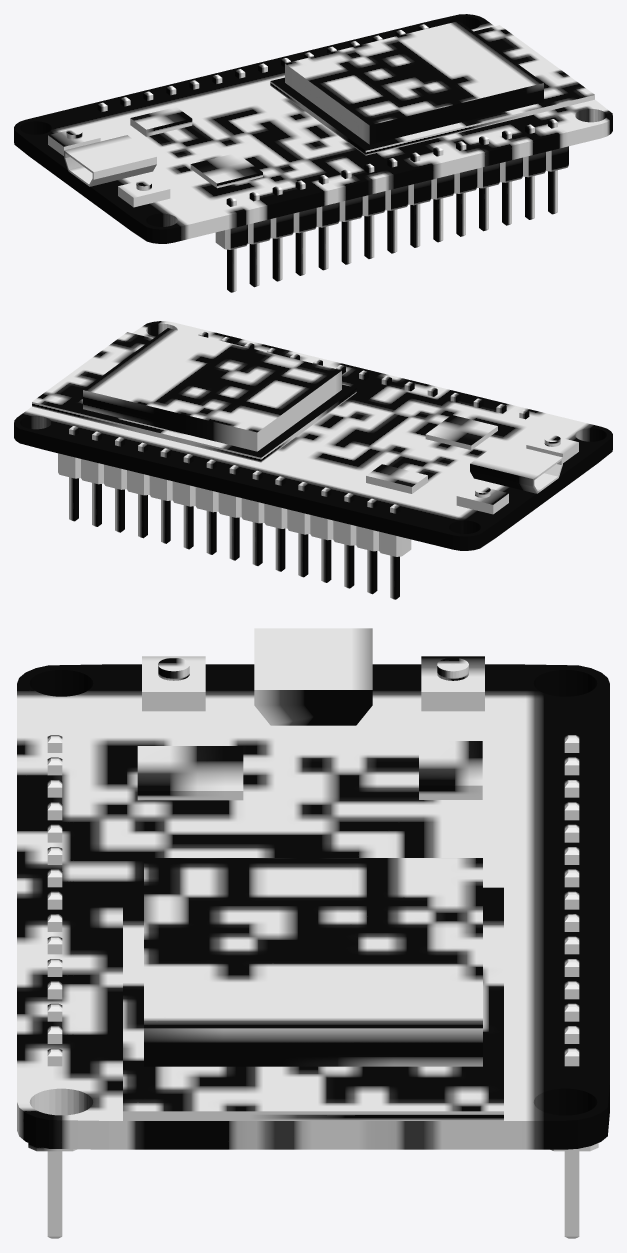
Rendered from ESP32.fbx.
3 views of the same model, one above another, from view 1: azimuth 30°, elevation 25°; view 2: azimuth 150°, elevation 25°; view 3: azimuth 270°, elevation 25° (orthographic). The views are drawn at different scales.
Visible parts, largest first — view 1: Base, Button.001, Pins.001, Antenna, espmicrousb, smdchip, Cube, Pins.002, ButtonBase.001, ButtonBase.002; view 2: Base, Button.001, Pins.002, Antenna, espmicrousb, smdchip, Cube, Pins.001, ButtonBase.002, ButtonBase.001; view 3: Base, Button.001, Antenna, espmicrousb, Pins.001, Pins.002, smdchip, Cube, ButtonBase.001, ButtonBase.002.
Part boxes in pixels (x1,y1,x2,y2): Base: [14, 14, 612, 243]; Button.001: [285, 21, 543, 144]; Pins.001: [215, 119, 568, 292]; Antenna: [270, 25, 594, 155]; espmicrousb: [64, 135, 156, 186]; smdchip: [190, 153, 262, 188]; Cube: [130, 107, 192, 136]; Pins.002: [97, 24, 428, 112]; ButtonBase.001: [118, 177, 170, 207]; ButtonBase.002: [48, 126, 100, 155]; Base: [14, 321, 612, 550]; Button.001: [83, 328, 341, 451]; Pins.002: [58, 426, 411, 599]; Antenna: [32, 332, 356, 462]; espmicrousb: [470, 442, 562, 493]; smdchip: [425, 415, 497, 450]; Cube: [366, 464, 427, 493]; Pins.001: [198, 331, 529, 419]; ButtonBase.002: [456, 484, 508, 514]; ButtonBase.001: [526, 433, 578, 462]; Base: [17, 664, 609, 1149]; Button.001: [144, 858, 482, 1066]; Antenna: [123, 887, 503, 1120]; espmicrousb: [254, 628, 372, 725]; Pins.001: [28, 735, 76, 1238]; Pins.002: [550, 735, 598, 1238]; smdchip: [137, 746, 243, 800]; Cube: [419, 741, 482, 799]; ButtonBase.001: [142, 656, 205, 711]; ButtonBase.002: [421, 656, 484, 711].
Bounding box in the file's own units: 5.11 × 1.16 × 2.8.
